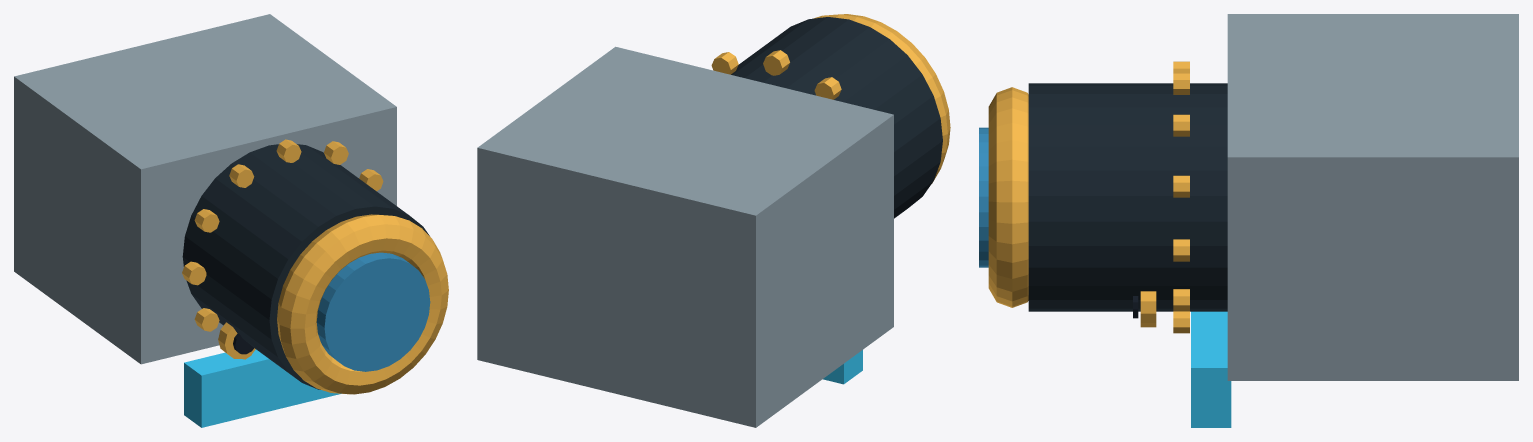
Rendered from 59_L84_OpticalLineOfSightSensor.fbx.
3 renders of one model, left to right at view 1: azimuth 30°, elevation 25°; view 2: azimuth 150°, elevation 25°; view 3: azimuth 270°, elevation 25°, orthographic. The views are drawn at different scales.
Parts seen in each view (by area): view 1: L84_OpticalLineOfSightSensor, L84_OpticalLineOfSightSensor_Part_0006; view 2: L84_OpticalLineOfSightSensor; view 3: L84_OpticalLineOfSightSensor, L84_OpticalLineOfSightSensor_Part_0014.
Part boxes in pixels (box(x1,y1,x2,y2)): L84_OpticalLineOfSightSensor: box(14, 14, 448, 427); L84_OpticalLineOfSightSensor_Part_0006: box(218, 322, 255, 358); L84_OpticalLineOfSightSensor: box(477, 14, 950, 427); L84_OpticalLineOfSightSensor: box(979, 14, 1518, 427); L84_OpticalLineOfSightSensor_Part_0014: box(1140, 291, 1156, 327).
Bounding box in the file's own units: 92 × 92.2 × 146.
